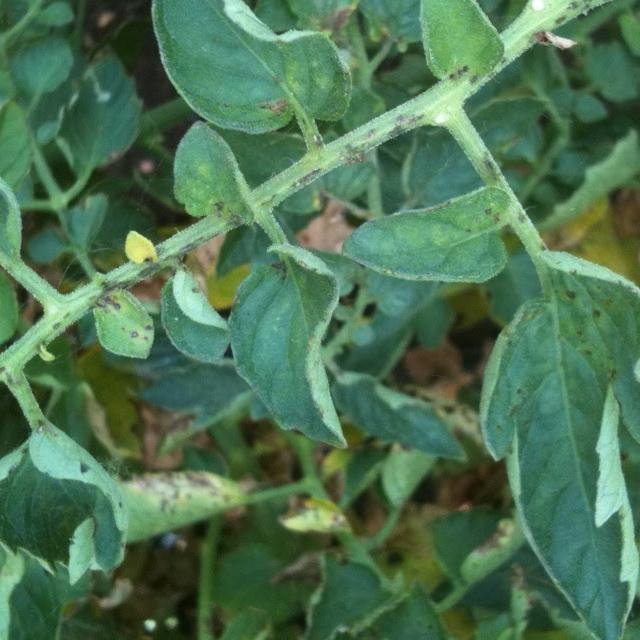Tomato leaf bacterial spot: (471, 255, 640, 631), (311, 173, 542, 314), (133, 0, 360, 138), (0, 12, 71, 322), (65, 279, 165, 378), (614, 0, 640, 61)
